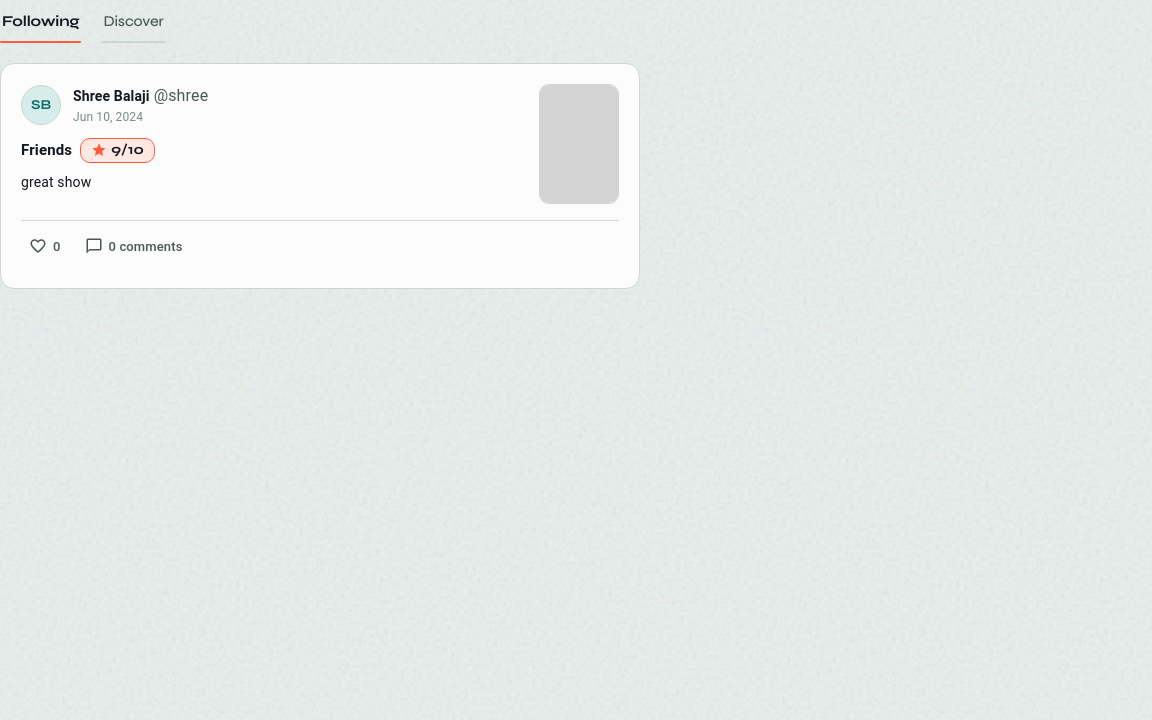
Test case: Home › shows an empty state when discover has no ratings for a logged in user
Click the button "Discover".
click(134, 21)  # box x1=101 y1=0 x2=166 y2=42
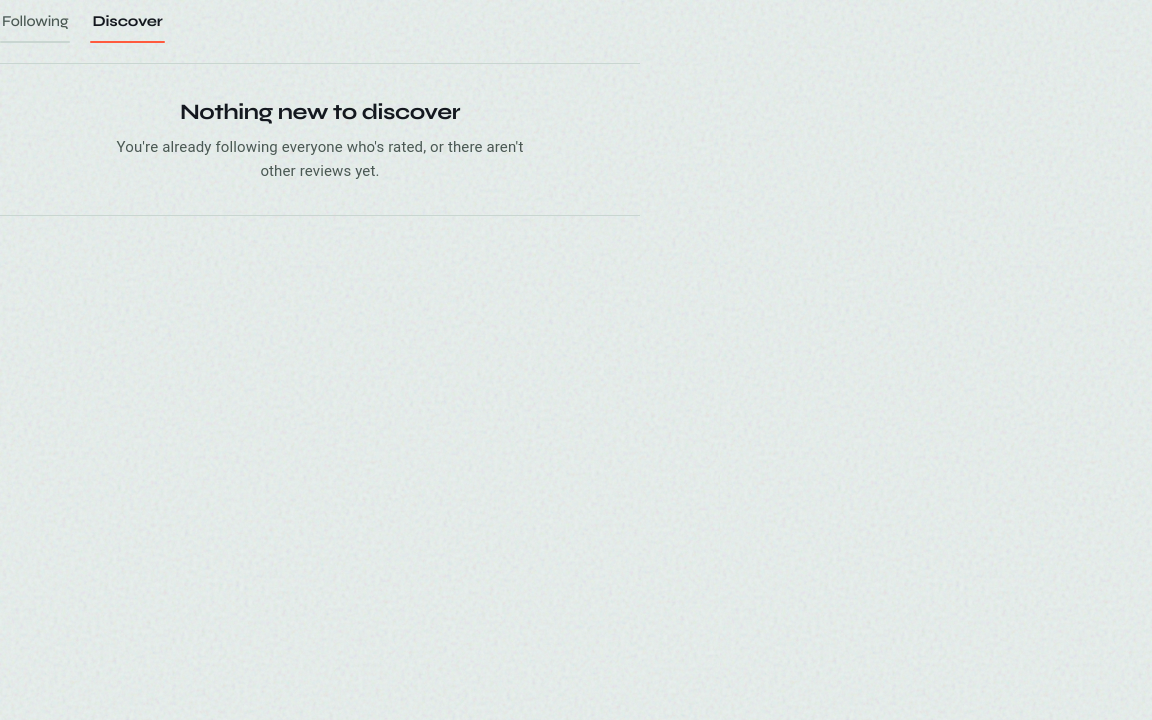
Result: the text "Nothing new to discover" is shown at x1=180 y1=98 x2=460 y2=124
